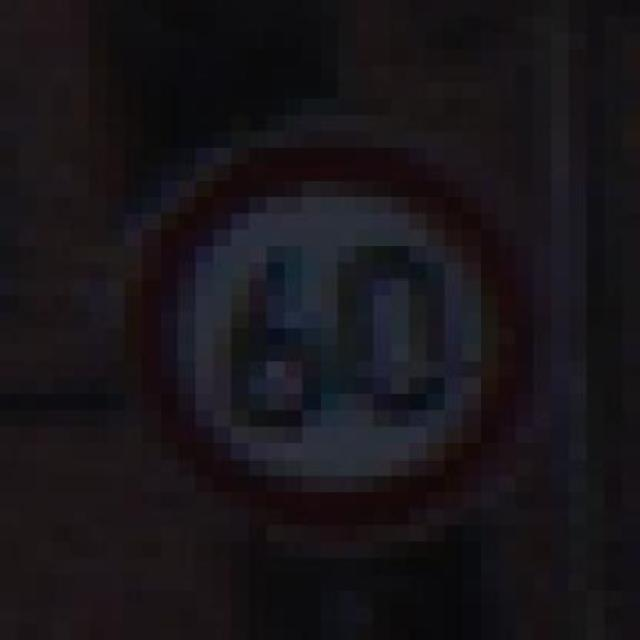forb_speed_over_60: (133, 135, 529, 539)
